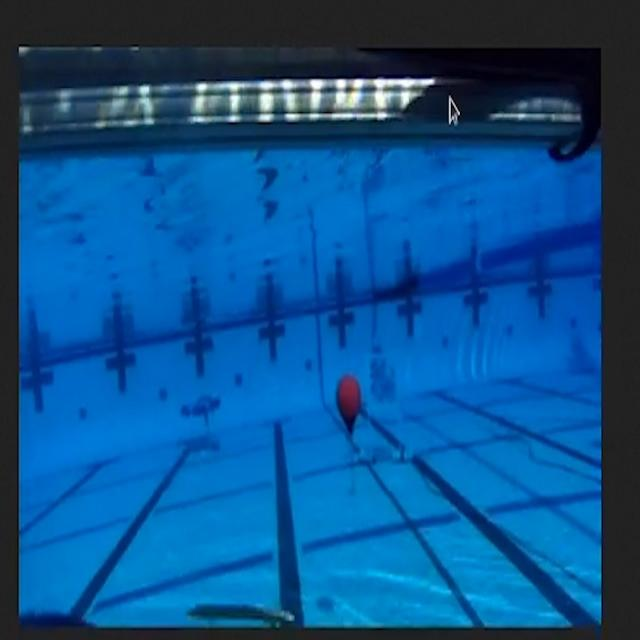Buoy: (333, 367, 367, 446)
